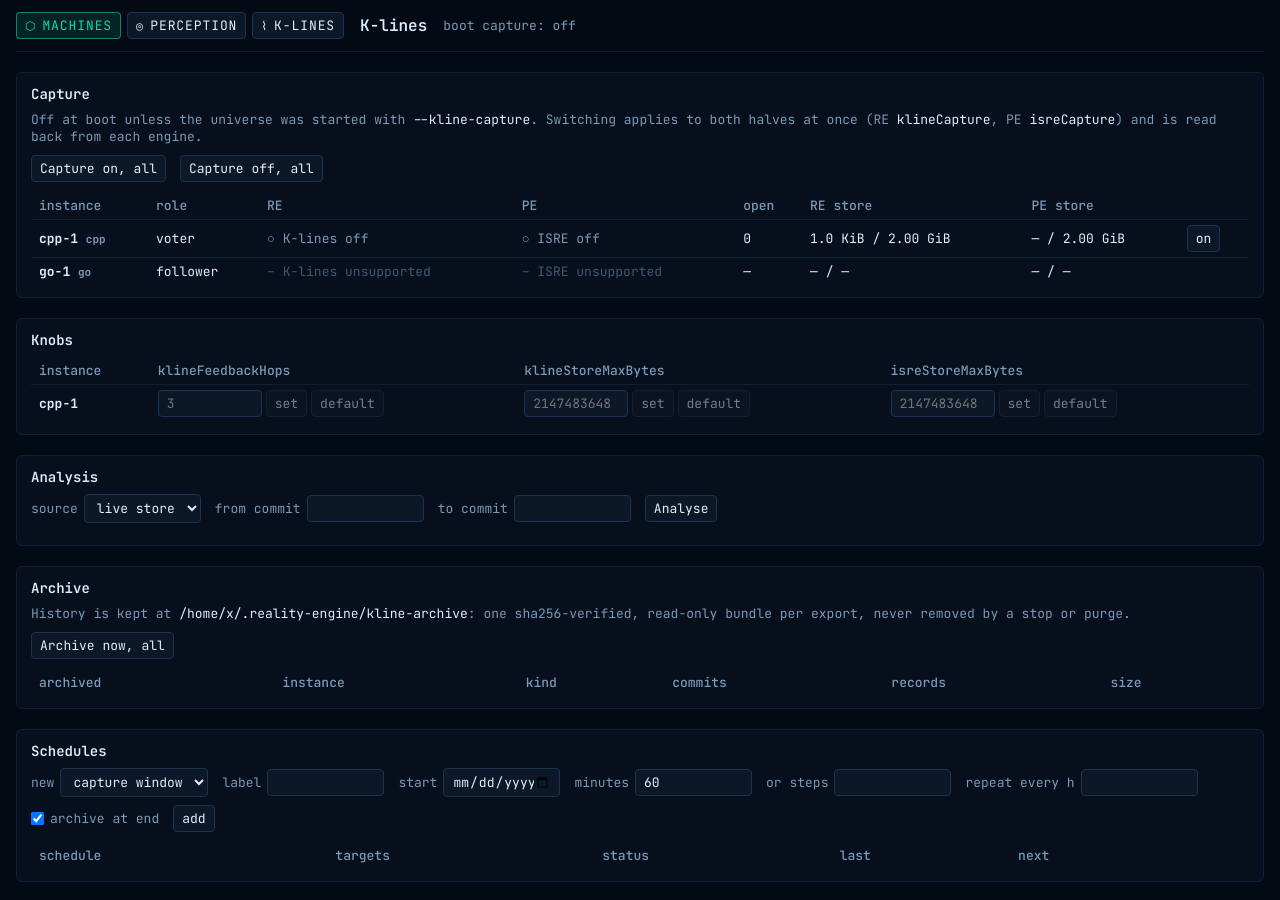
KlinePanelView › names a voter split, never one engine as the reference
Expected: the row with test id "kline-row-cpp-1" is shown, [31, 220, 1249, 258]
Click the button with test id "kline-analyze": (681, 508) [645, 495, 717, 522]
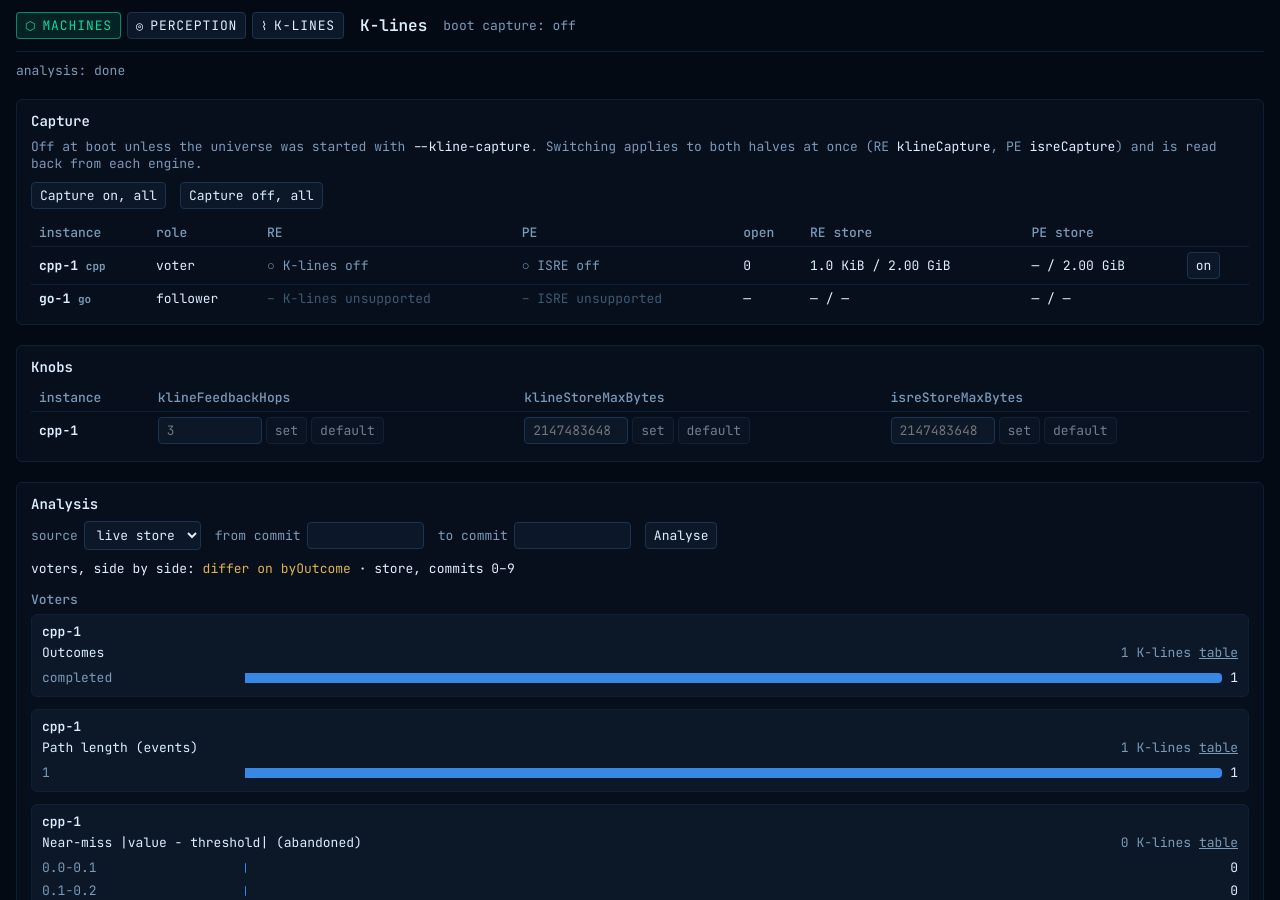
Now the element with test id "kline-agreement" shows "differ on byOutcome", box [31, 560, 515, 577]
